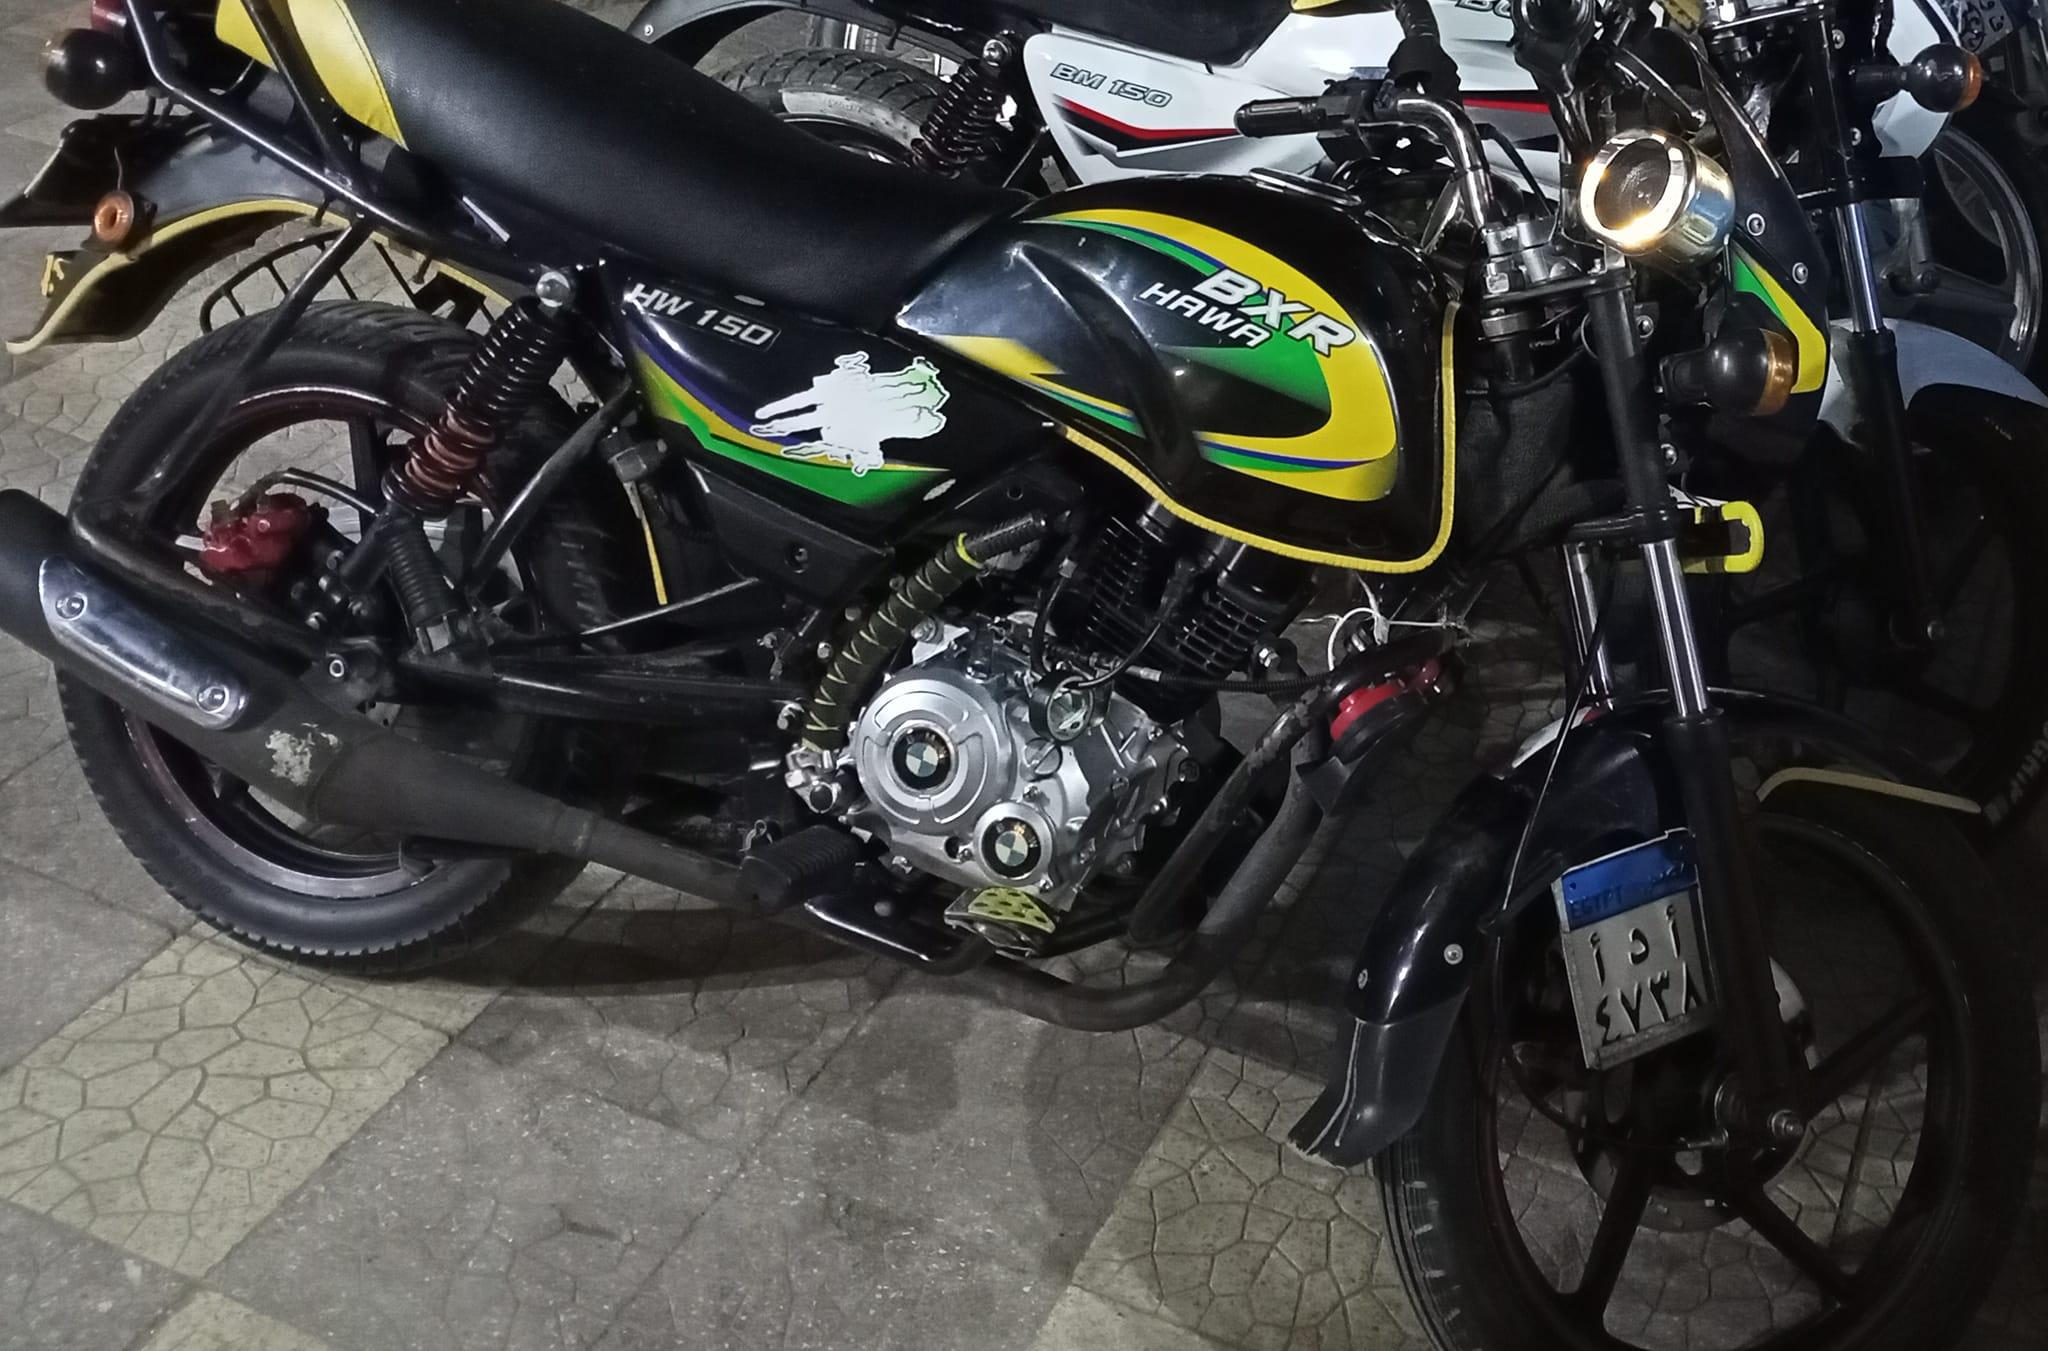License Plate: (1553, 827, 1718, 1065)
